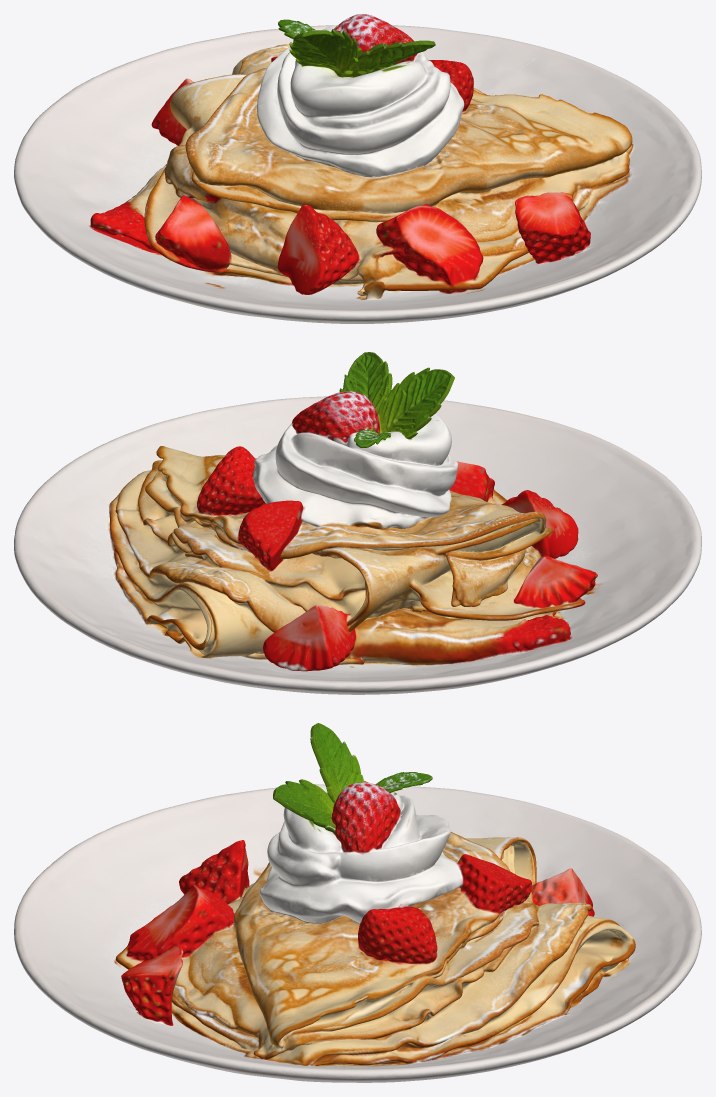
File: crepa.glb
3 views of the same model, one above another, from view 1: azimuth 30°, elevation 25°; view 2: azimuth 150°, elevation 25°; view 3: azimuth 270°, elevation 25° (orthographic).
Size of the model in its own units: 1.9 by 0.7229 by 1.9.
1 material, 1 textured.
